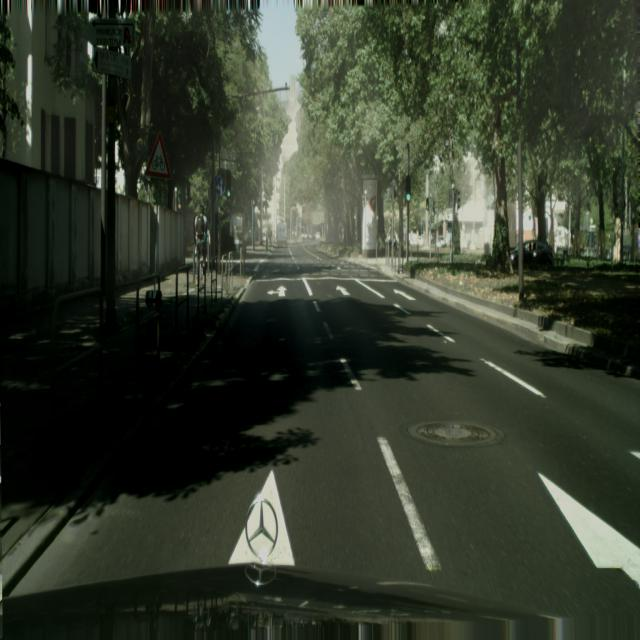person: (194, 207, 207, 281)
truck: (510, 240, 554, 269), (274, 221, 288, 251)
